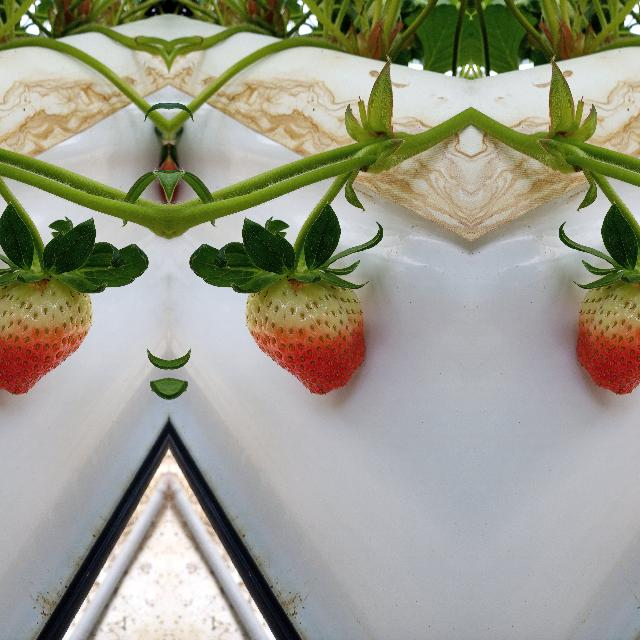Health_75: (244, 272, 366, 396), (0, 272, 91, 395), (575, 272, 640, 395)
